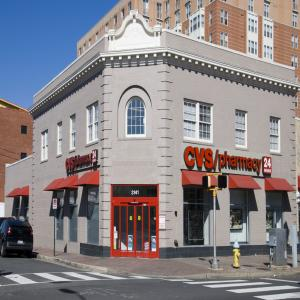Vehicle-registration-plate: (18, 239, 25, 245)
